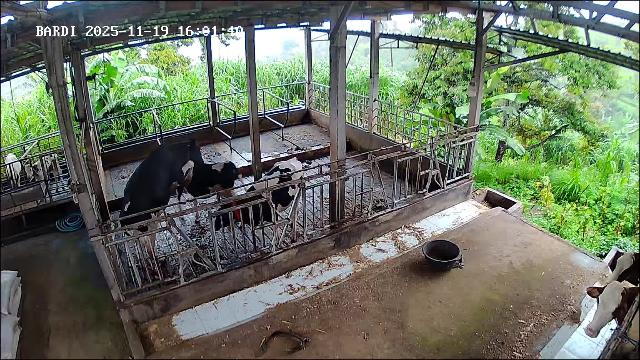mounting: (118, 139, 204, 265)
